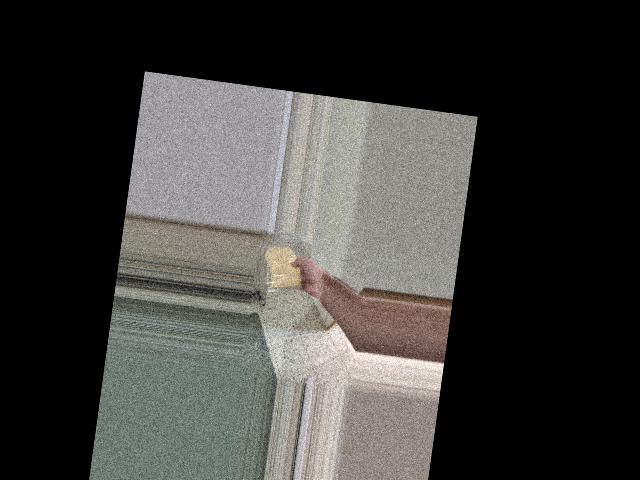cheese: (256, 241, 307, 296)
